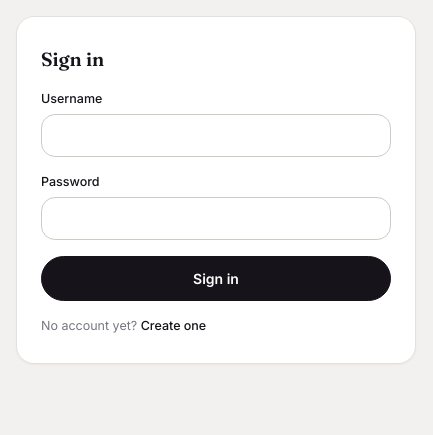
sign-in with both fields empty names both
The image size is (433, 435).
Click the button "Sign in" at (216, 278), box x1=41 y1=256 x2=391 y2=300
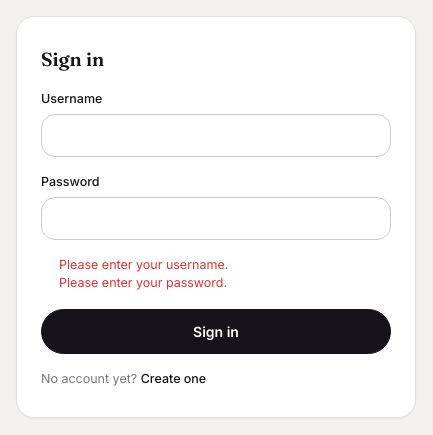
Expected: the message shows "Please enter your username.", x1=59 y1=256 x2=228 y2=272
Expected: the message shows "Please enter your password.", x1=59 y1=275 x2=227 y2=290
